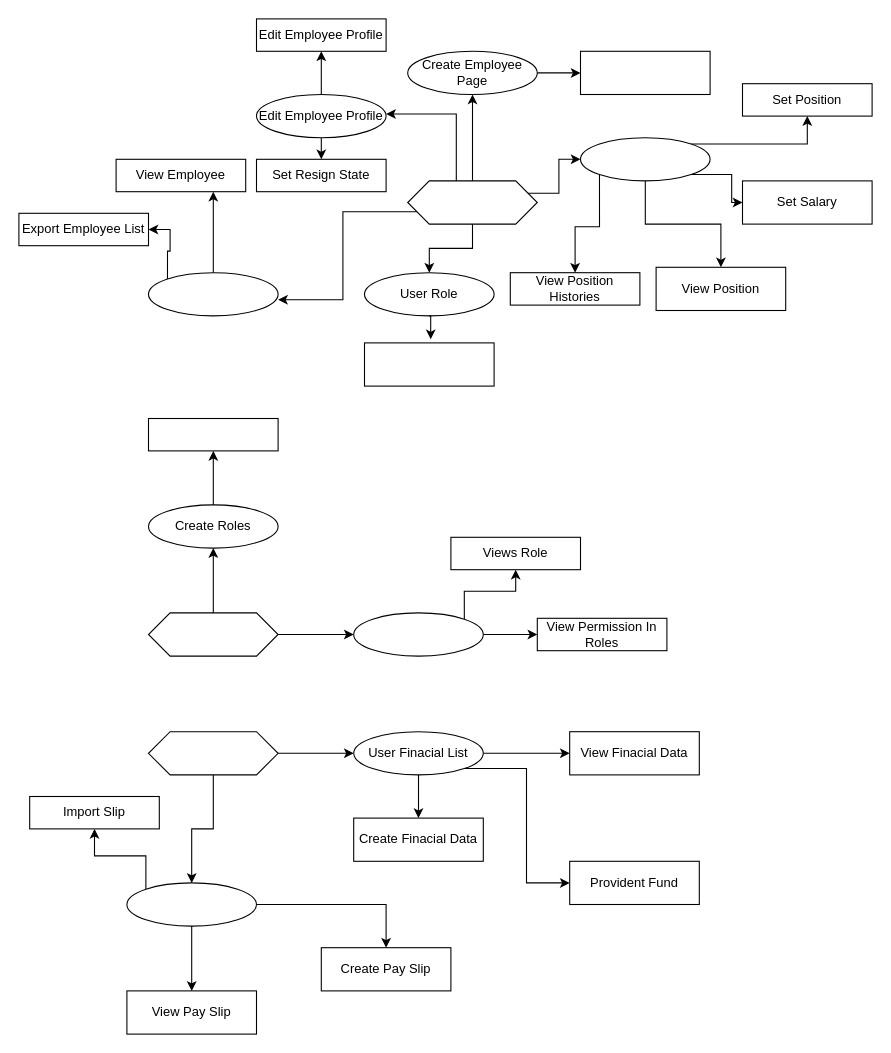
The diagram is 891 pixels wide and 1053 high, and some of its shapes have lost their labels. The shapes that lost their labels are listed below. From the top down, each one's centre as x and y in pixels, then its label:
At pixel 644 72: "Create Employee".
At pixel 644 159: "Position Page".
At pixel 472 202: "Employee".
At pixel 212 294: "Employee List".
At pixel 428 364: "Set User Roles".
At pixel 212 434: "Create Role".
At pixel 212 634: "Role & Permission".
At pixel 418 634: "View Data".
At pixel 212 753: "Finacial Data".
At pixel 191 904: "Payroll".
